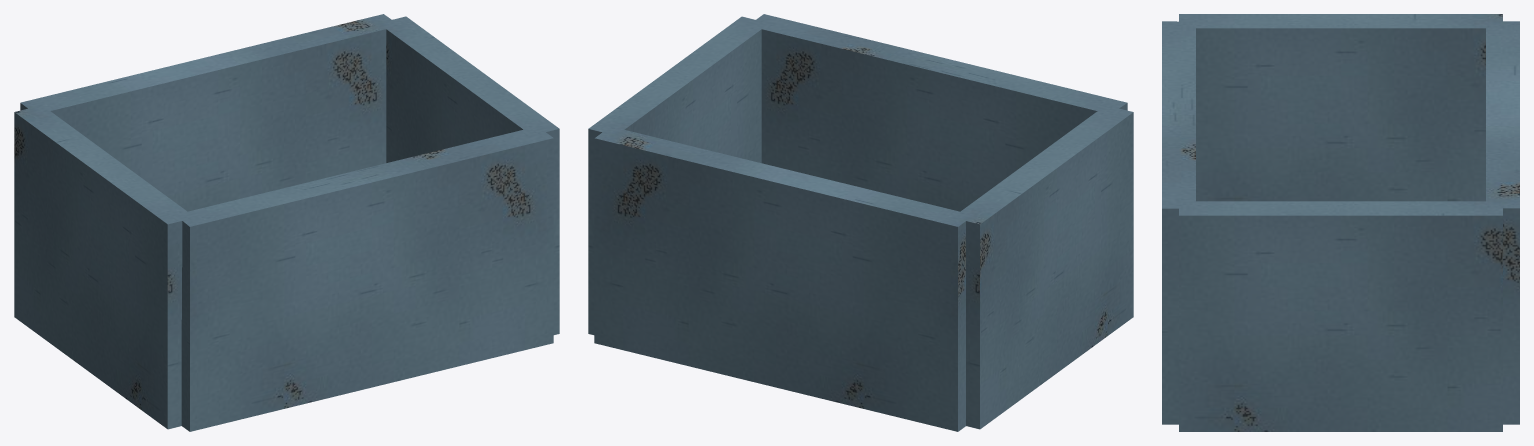
File: crate1_v3.glb
3 views of the same model, side by side, from view 1: azimuth 30°, elevation 25°; view 2: azimuth 150°, elevation 25°; view 3: azimuth 270°, elevation 25° (orthographic). The views are drawn at different scales.
Parts seen in each view (by area): view 1: Variant_crate1_3; view 2: Variant_crate1_3; view 3: Variant_crate1_3.
Boxes of the visible parts, x1=… form: Variant_crate1_3: x1=14, y1=14, x2=559, y2=431; Variant_crate1_3: x1=588, y1=14, x2=1133, y2=431; Variant_crate1_3: x1=1162, y1=14, x2=1519, y2=431.
Bounding box in the file's own units: 0.56 × 0.28 × 0.42.
Materials: 1 (1 with a texture image).
